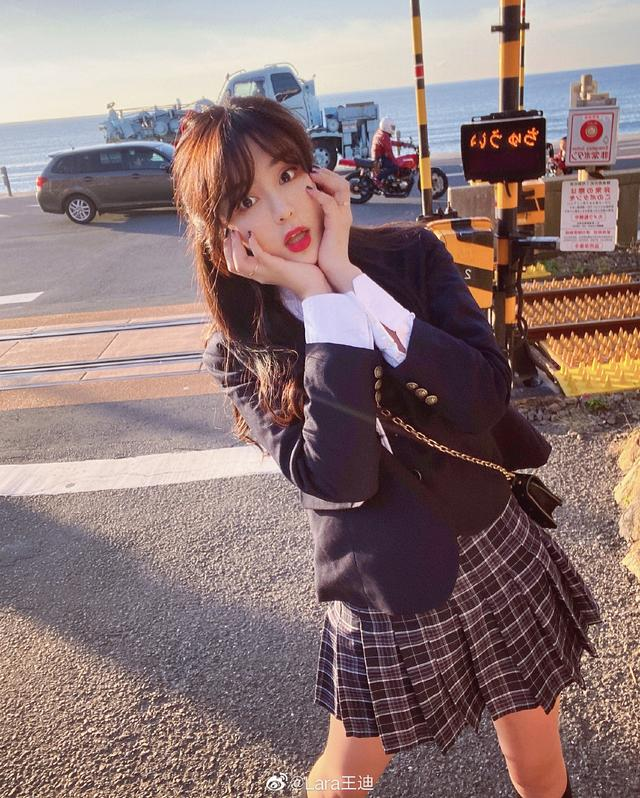person: (139, 122, 517, 775)
